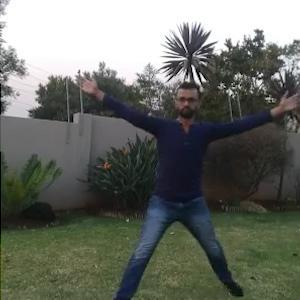takeoff: (91, 86, 293, 293)
